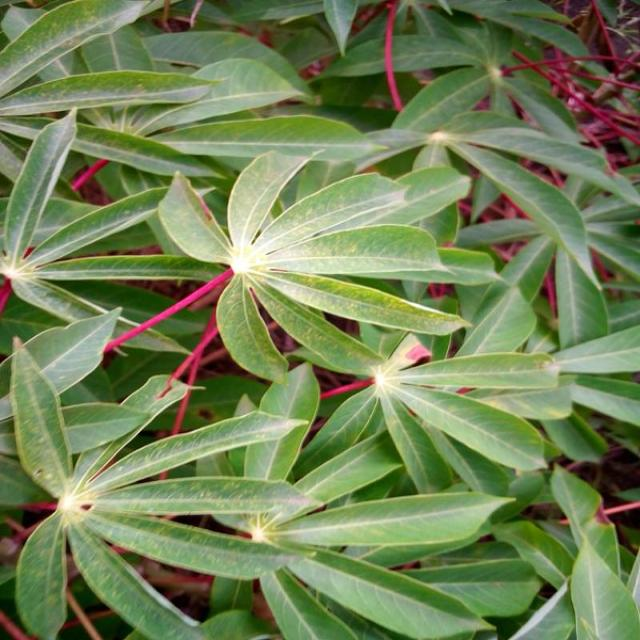cassava leaf: (2, 1, 639, 638), (154, 146, 482, 383)
